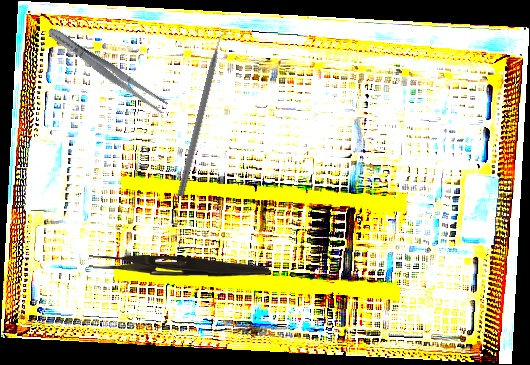Chopper: (177, 26, 235, 200)
Dressing Forceps: (44, 23, 170, 116), (88, 254, 270, 278)
